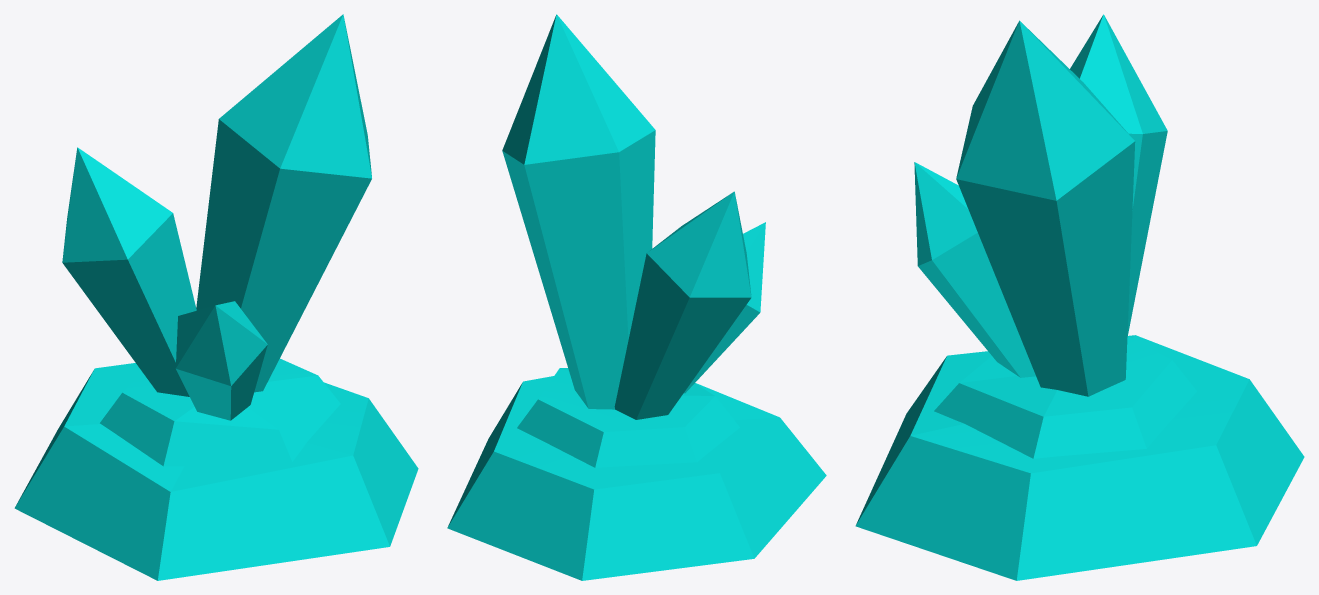
Rendered from ccc.glb.
3 views of the same model, side by side, from view 1: azimuth 30°, elevation 25°; view 2: azimuth 150°, elevation 25°; view 3: azimuth 270°, elevation 25° (orthographic). The views are drawn at different scales.
Parts seen in each view (by area): view 1: SM_Env_Dungeon_Crystal_01; view 2: SM_Env_Dungeon_Crystal_01; view 3: SM_Env_Dungeon_Crystal_01.
Boxes of the visible parts, box(x1,y1,x2,y2) form: SM_Env_Dungeon_Crystal_01: box(14, 14, 418, 580); SM_Env_Dungeon_Crystal_01: box(447, 14, 826, 580); SM_Env_Dungeon_Crystal_01: box(855, 14, 1304, 580).
Bounding box in the file's own units: 0.5624 × 0.8026 × 0.5764.
